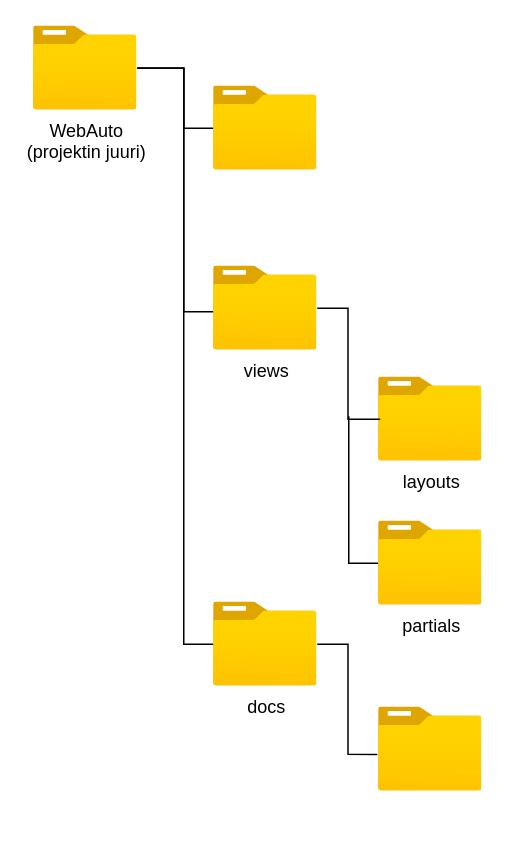
This 507x848 diagram has some shape labels left out. Here are the shapes that lost their labels. From the top down, the centre of each, then its label:
the point at 264,128: public
the point at 430,748: pictures
